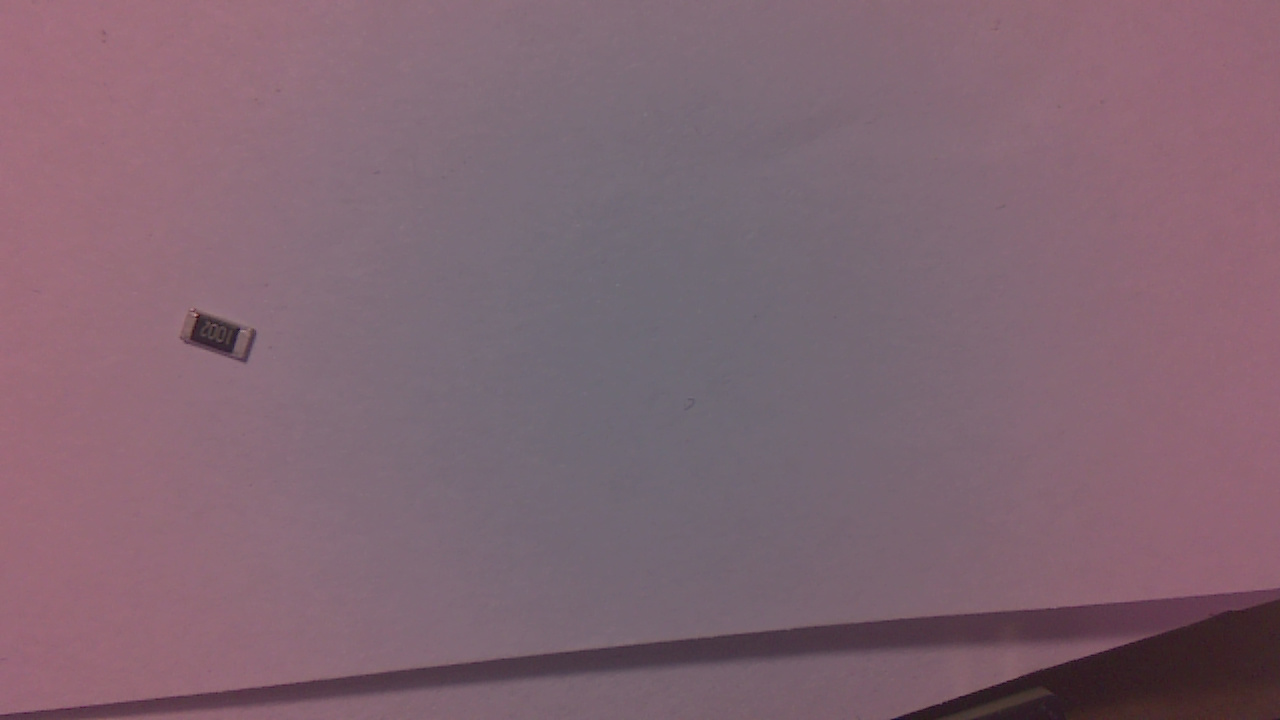Resistor: (182, 311, 263, 367)
